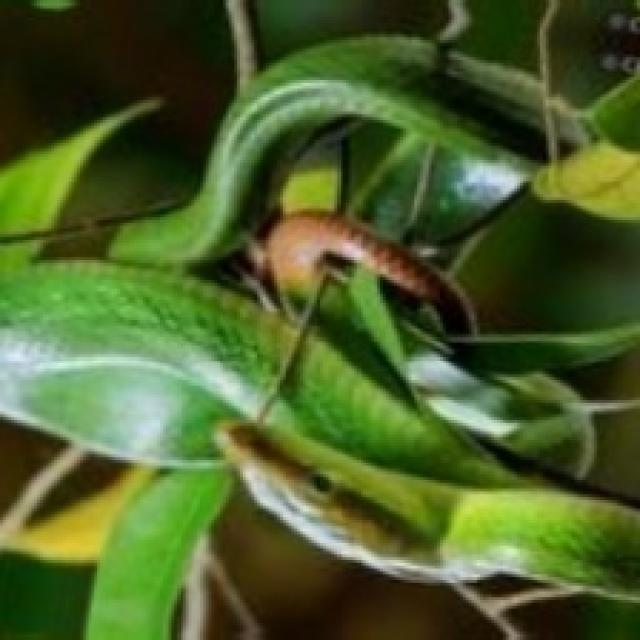red-tailed green ratsnake: (0, 36, 640, 602)
